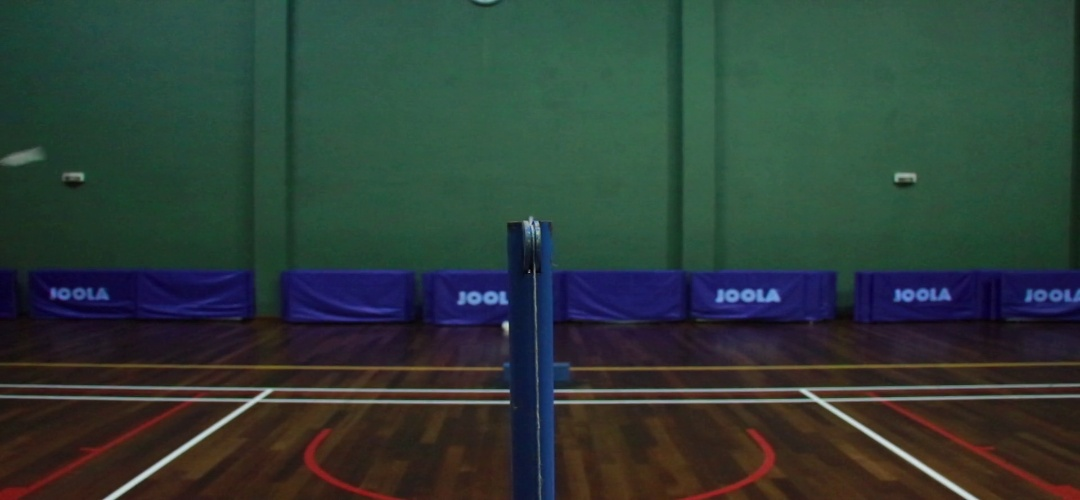c1: (236, 393, 277, 409)
c2: (802, 394, 841, 408)
net_level: (507, 220, 554, 297)
shuttle: (1, 150, 40, 169)
